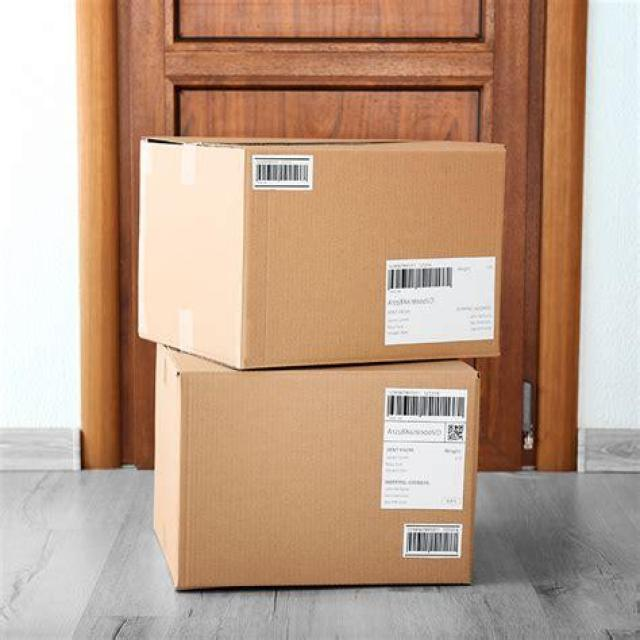box: (135, 135, 506, 373), (152, 342, 481, 592)
